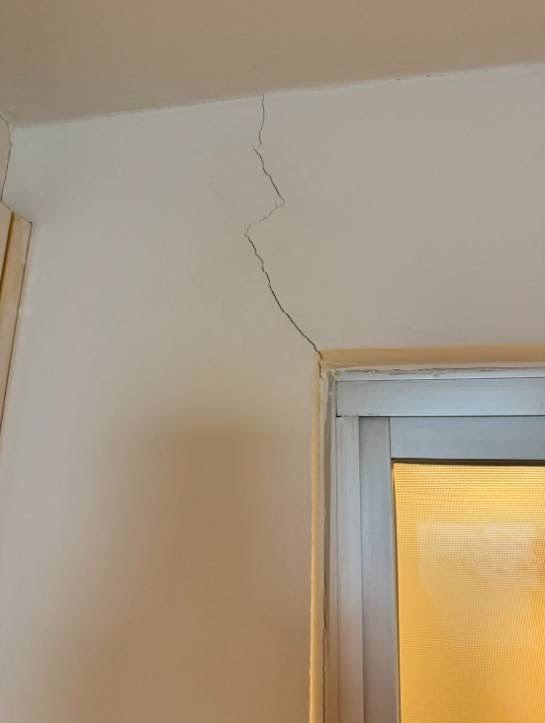Low: (243, 87, 324, 378)
